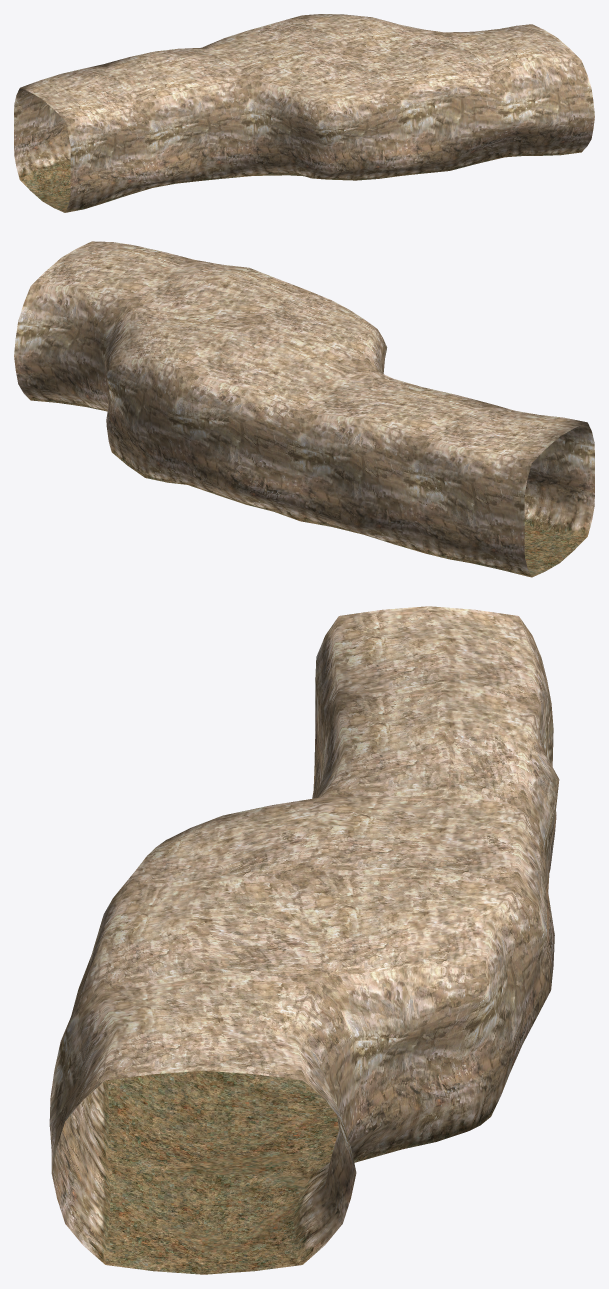
The model's file is thm_all_cave_s03_mirror_r3_mesh_r3.fbx.
3 views of the same model, one above another, from view 1: azimuth 30°, elevation 25°; view 2: azimuth 150°, elevation 25°; view 3: azimuth 270°, elevation 25° (orthographic). The views are drawn at different scales.
Visible parts, largest first — view 1: mesh_node; view 2: mesh_node; view 3: mesh_node.
Boxes of the visible parts, <box> form: mesh_node: <box>14,14,594,212</box>; mesh_node: <box>14,241,594,577</box>; mesh_node: <box>49,606,559,1274</box>.
Size of the model in its own units: 37.27 by 8.92 by 17.95.
